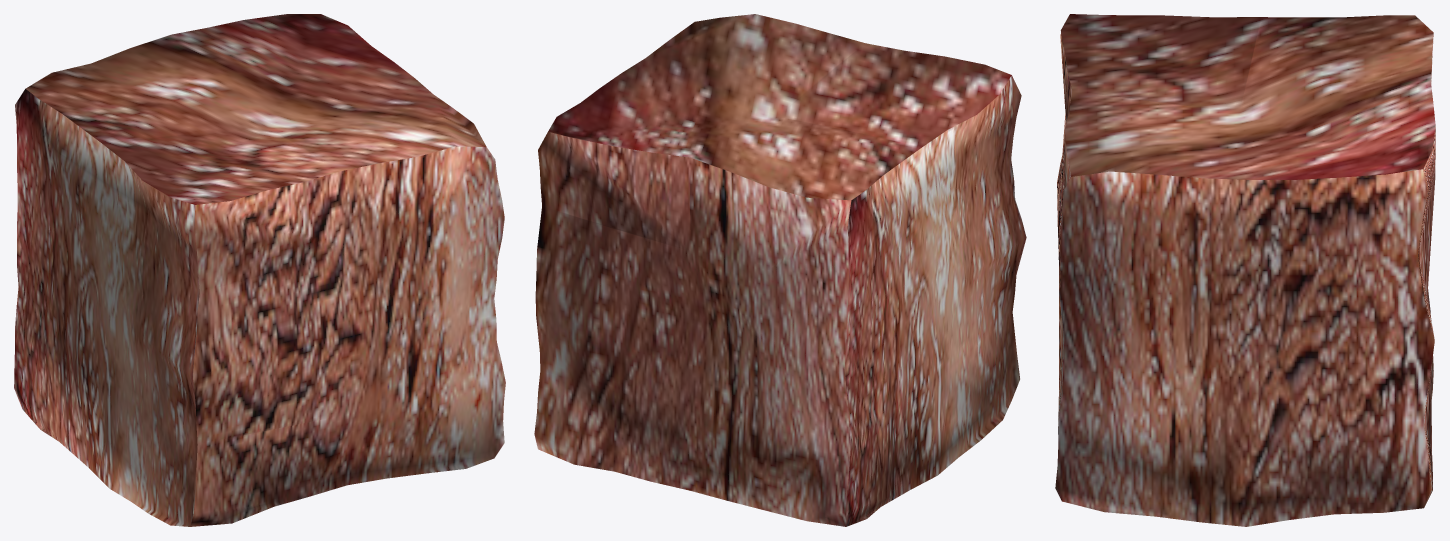
The model's file is meat.fbx.
The picture shows the model from 3 angles, left to right: view 1: azimuth 30°, elevation 25°; view 2: azimuth 150°, elevation 25°; view 3: azimuth 270°, elevation 25°; orthographic projection. The views are drawn at different scales.
Visible parts, largest first — view 1: meat; view 2: meat; view 3: meat.
Boxes of the visible parts, <box> form: meat: <box>14,14,505,526</box>; meat: <box>534,14,1026,526</box>; meat: <box>1055,14,1435,526</box>.
Size of the model in its own units: 2.04 by 2.17 by 2.04.
1 material, 1 textured.
